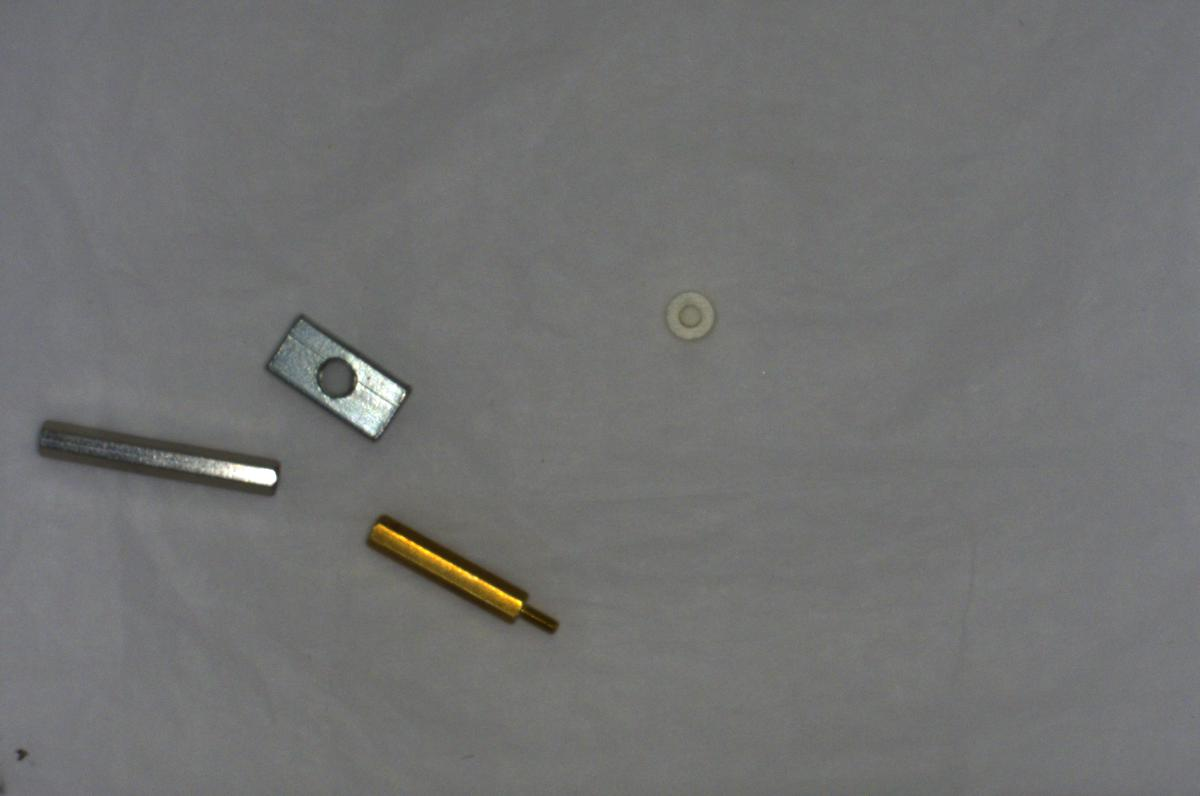Double hexagonal column: (30, 412, 290, 509)
Hexagon pillar: (352, 508, 568, 641)
Plastic cushion pillar: (665, 282, 722, 346)
Rectangular nut: (264, 307, 412, 440)
